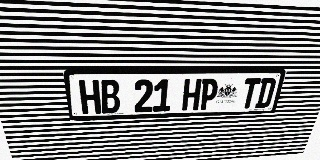1: (153, 79, 172, 112)
2: (134, 79, 153, 112)
B: (99, 80, 120, 114)
D: (254, 78, 277, 108)
H: (78, 80, 101, 114), (182, 79, 202, 111)
P: (198, 79, 219, 110)
T: (239, 78, 261, 109)
